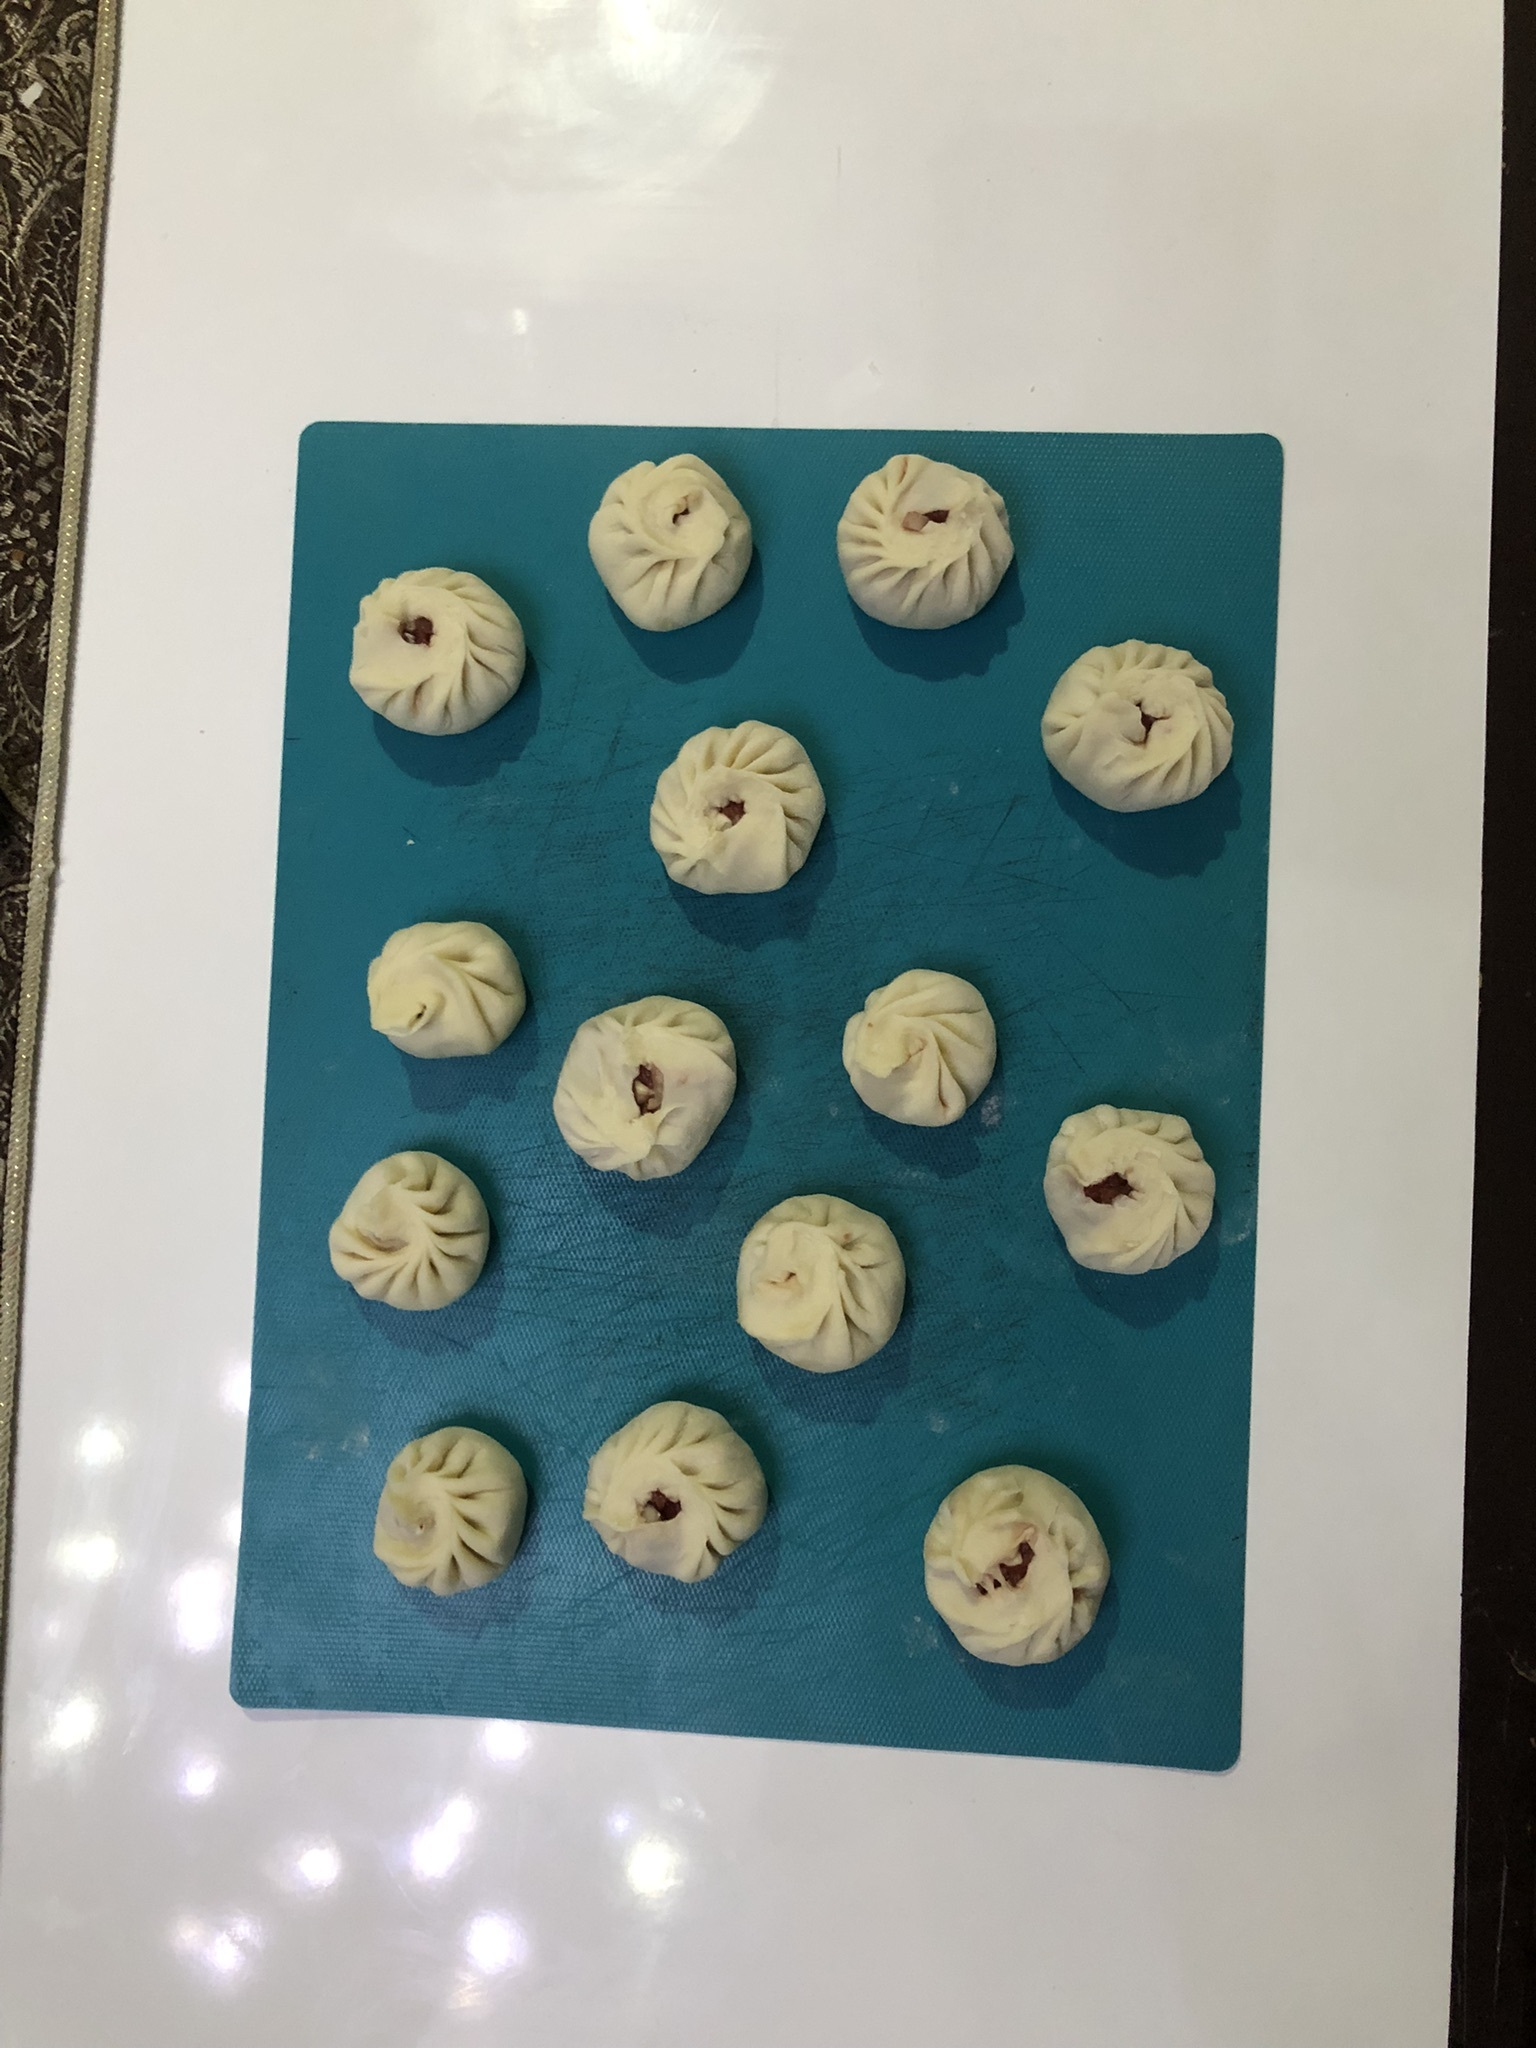buuz: (912, 1451, 1120, 1679), (1029, 626, 1252, 829), (537, 984, 757, 1187), (570, 1393, 778, 1593), (636, 713, 841, 913), (723, 1184, 920, 1387), (824, 448, 1023, 642), (1033, 1093, 1225, 1287), (579, 440, 762, 642), (342, 560, 537, 747), (323, 1138, 510, 1322), (361, 1409, 541, 1601), (829, 956, 1007, 1142), (355, 910, 537, 1072)
